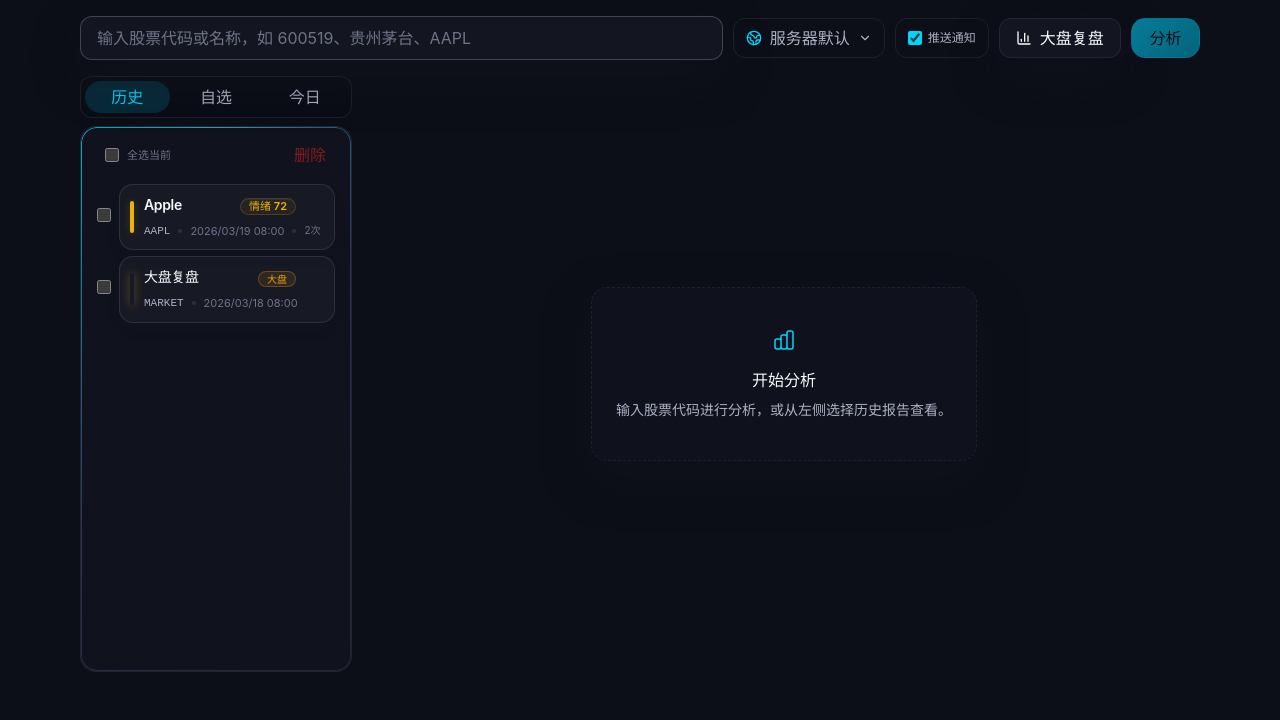
Test: HomePage › shows market review history in the stock bar
This screenshot has width=1280, height=720.
Step 1. Click the button "大盘复盘 大盘 MARKET 2026/03/18 08:00" → (227, 289), box [119,256,335,322]
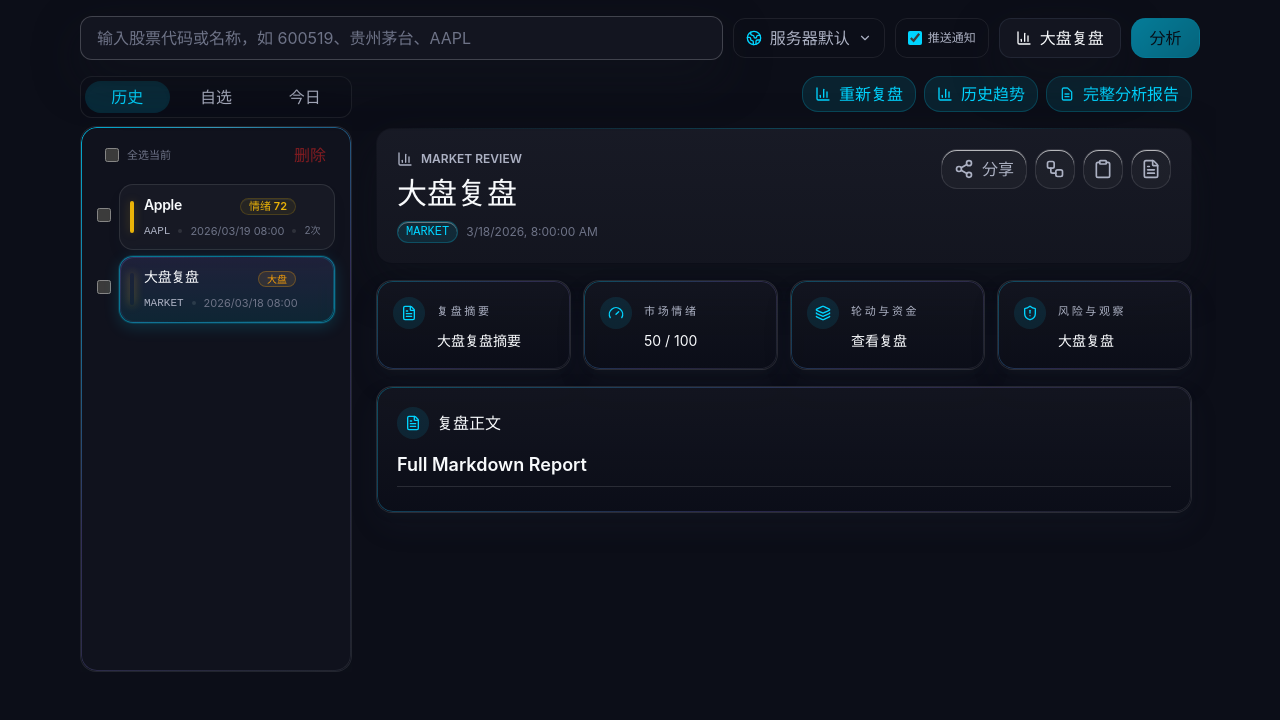
Result: the text "大盘复盘摘要" is shown at [437,328,521,352]
